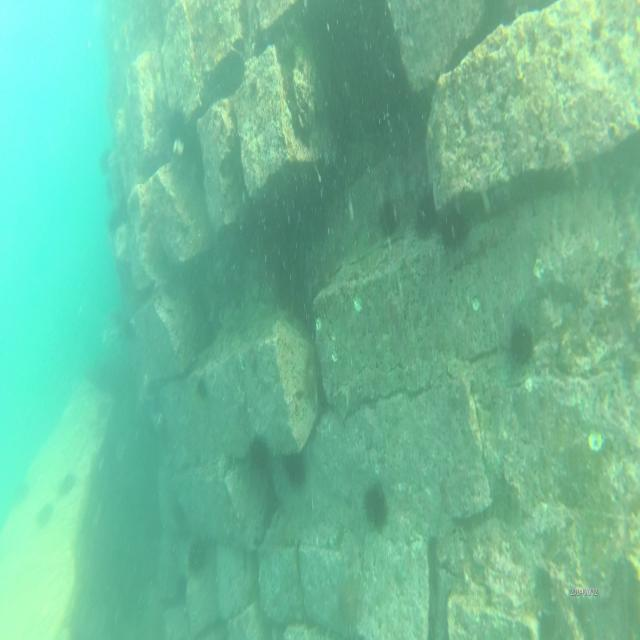echinus: (337, 573, 367, 636), (363, 482, 388, 539), (508, 321, 534, 368), (283, 444, 308, 492), (414, 196, 438, 244), (441, 206, 466, 249), (186, 534, 209, 574), (250, 435, 270, 479), (379, 202, 401, 240), (192, 376, 212, 404), (34, 501, 54, 527), (174, 573, 190, 605), (58, 470, 75, 500), (13, 482, 30, 505)
